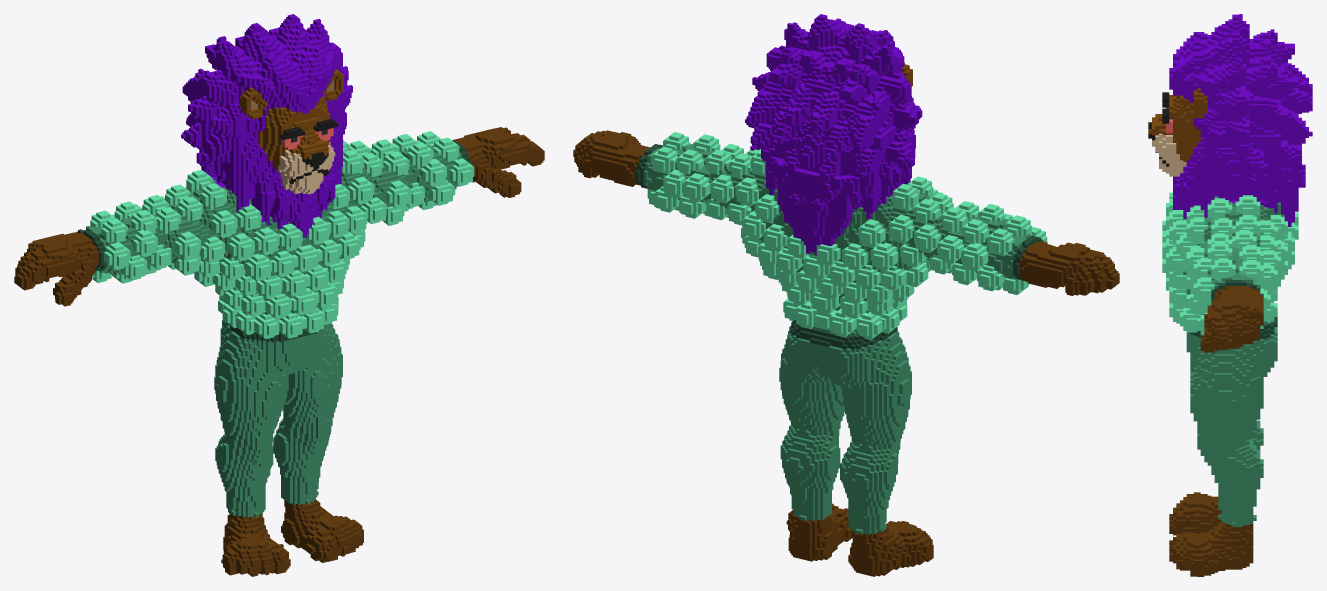
File: 880-DSWTE9yk.fbx
3 views of the same model, side by side, from view 1: azimuth 30°, elevation 25°; view 2: azimuth 150°, elevation 25°; view 3: azimuth 270°, elevation 25° (orthographic). The views are drawn at different scales.
Parts seen in each view (by area): view 1: sad; view 2: sad; view 3: sad.
Part boxes in pixels (x1,y1,x2,y2): sad: [14, 14, 544, 576]; sad: [573, 14, 1119, 576]; sad: [1148, 14, 1312, 576].
Bounding box in the file's own units: 17.2 × 16.5 × 4.7.
5 materials, 5 textured.
